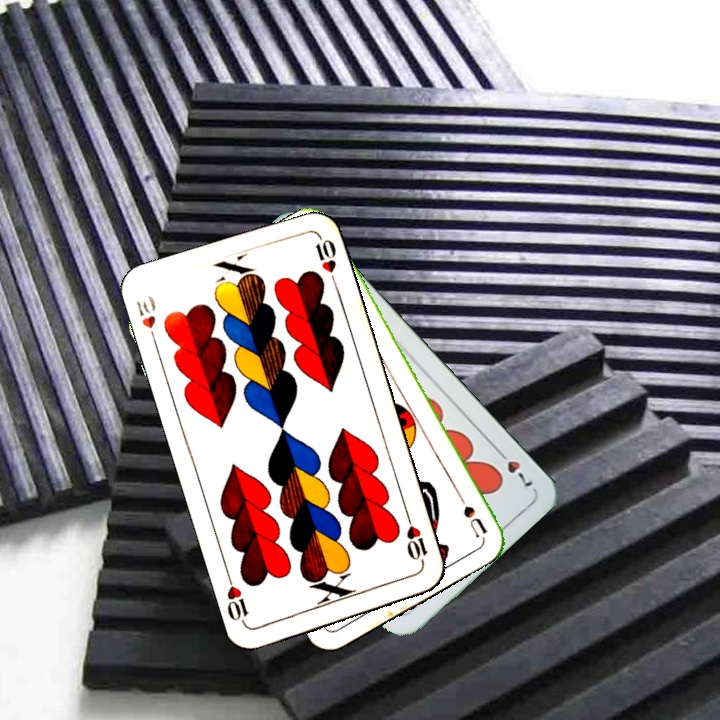H10: (402, 511, 430, 569), (132, 291, 160, 348)
H7: (491, 443, 536, 490)
SU: (450, 483, 490, 539)
